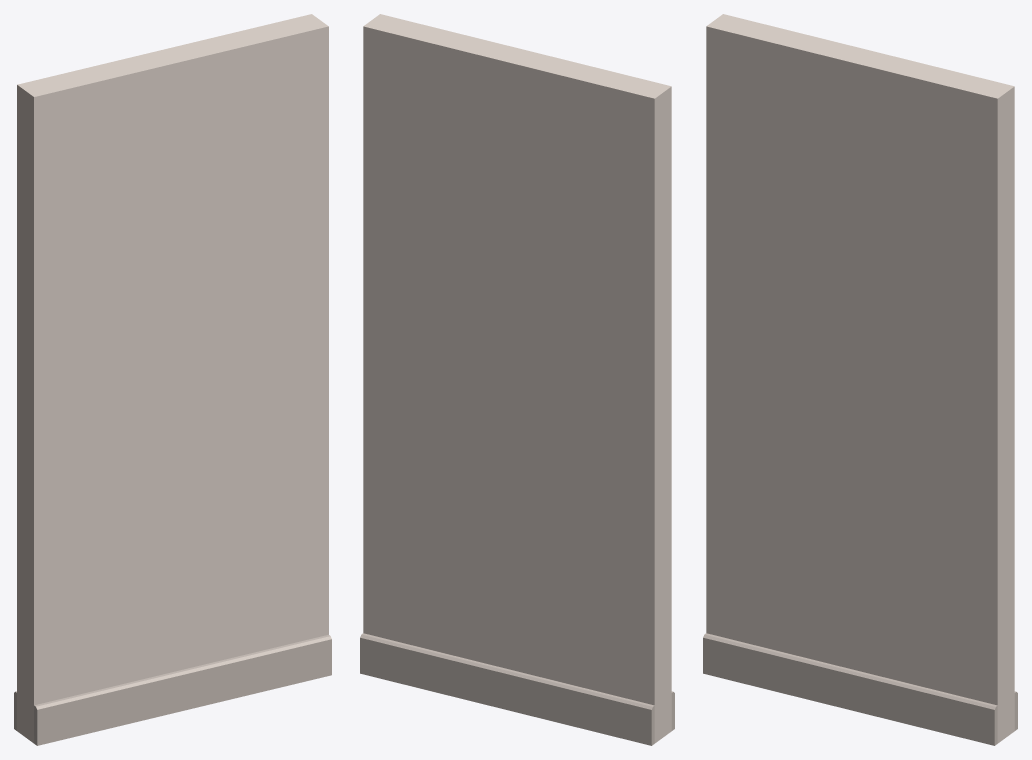
The model's file is WallDoubleSkirting.fbx.
The picture shows the model from 3 angles, left to right: view 1: azimuth 30°, elevation 25°; view 2: azimuth 150°, elevation 25°; view 3: azimuth 330°, elevation 25°; orthographic projection.
Parts seen in each view (by area): view 1: Wall_Both_Skirting100; view 2: Wall_Both_Skirting100; view 3: Wall_Both_Skirting100.
Boxes of the visible parts, left/top/right/bottom form: Wall_Both_Skirting100: left=14, top=14, right=331, bottom=745; Wall_Both_Skirting100: left=360, top=14, right=674, bottom=745; Wall_Both_Skirting100: left=703, top=14, right=1017, bottom=745.
Bounding box in the file's own units: 120 × 252 × 17.22.
Materials: 1 (1 with a texture image).
